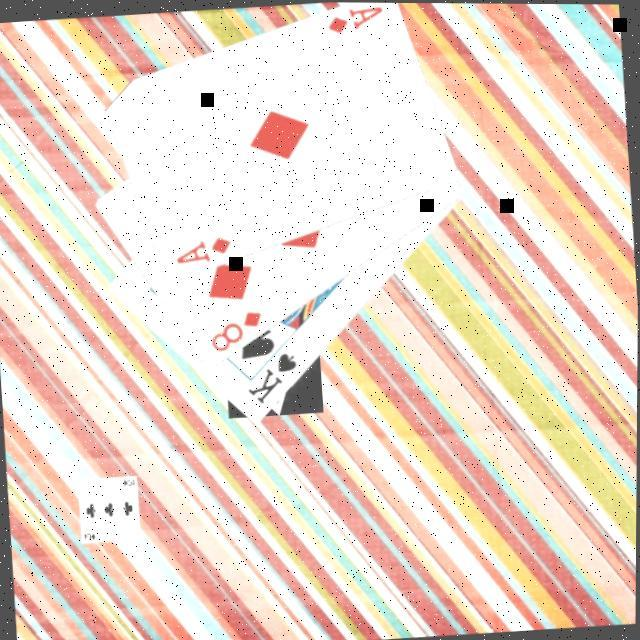8D: (205, 307, 266, 356)
AD: (321, 2, 385, 38), (170, 234, 234, 268)
KS: (242, 348, 302, 408)
